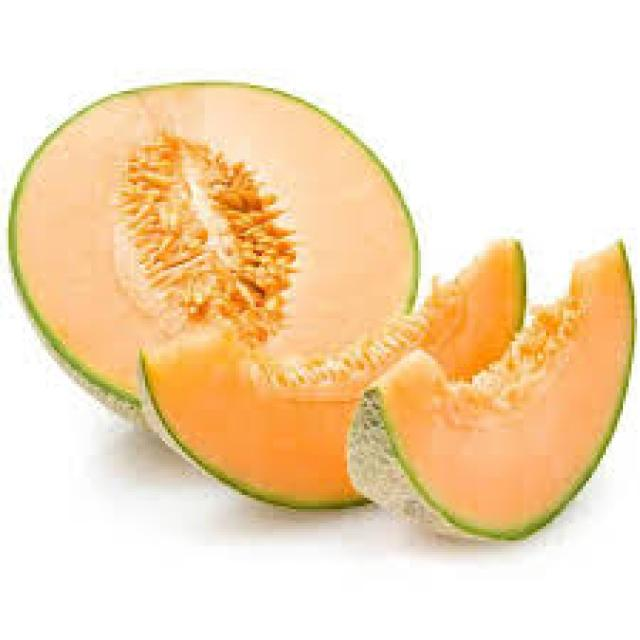cantaloupe: (12, 80, 420, 432), (140, 238, 530, 508), (343, 238, 640, 541)
